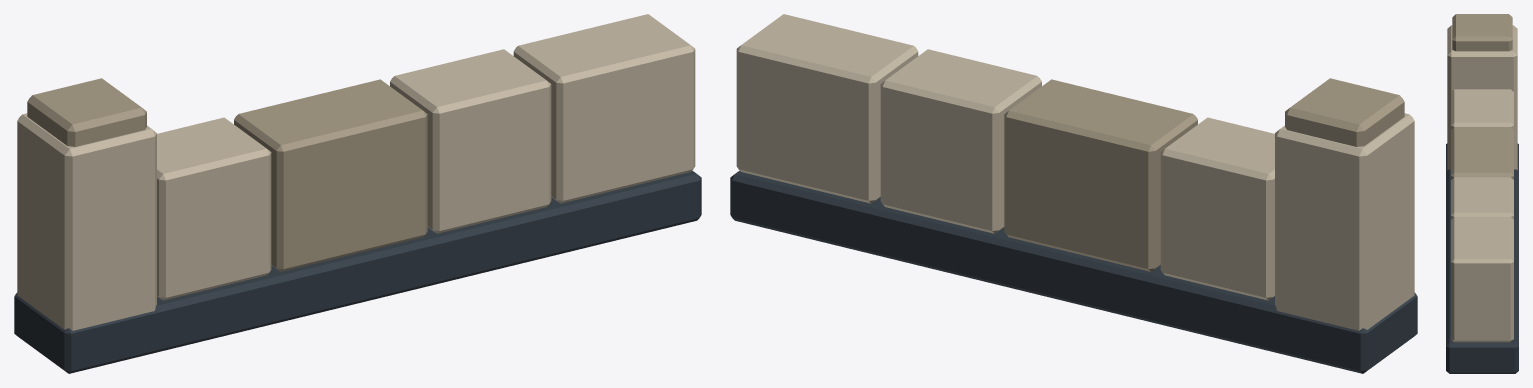
File: Court_PerimeterWall.fbx
The picture shows the model from 3 angles, left to right: view 1: azimuth 30°, elevation 25°; view 2: azimuth 150°, elevation 25°; view 3: azimuth 270°, elevation 25°; orthographic projection. The views are drawn at different scales.
Visible parts, largest first — view 1: Concrete, FrameDark, ConcreteDark; view 2: Concrete, FrameDark, ConcreteDark; view 3: Concrete, ConcreteDark, FrameDark.
Part boxes in pixels (<box>): Concrete: <box>17,14,695,330</box>; FrameDark: <box>14,170,701,373</box>; ConcreteDark: <box>27,78,427,271</box>; Concrete: <box>736,14,1414,330</box>; FrameDark: <box>730,170,1417,373</box>; ConcreteDark: <box>1004,78,1404,271</box>; Concrete: <box>1447,25,1517,342</box>; ConcreteDark: <box>1451,14,1513,179</box>; FrameDark: <box>1446,143,1518,373</box>.
Bounding box in the file's own units: 10 × 3.66 × 1.5.
